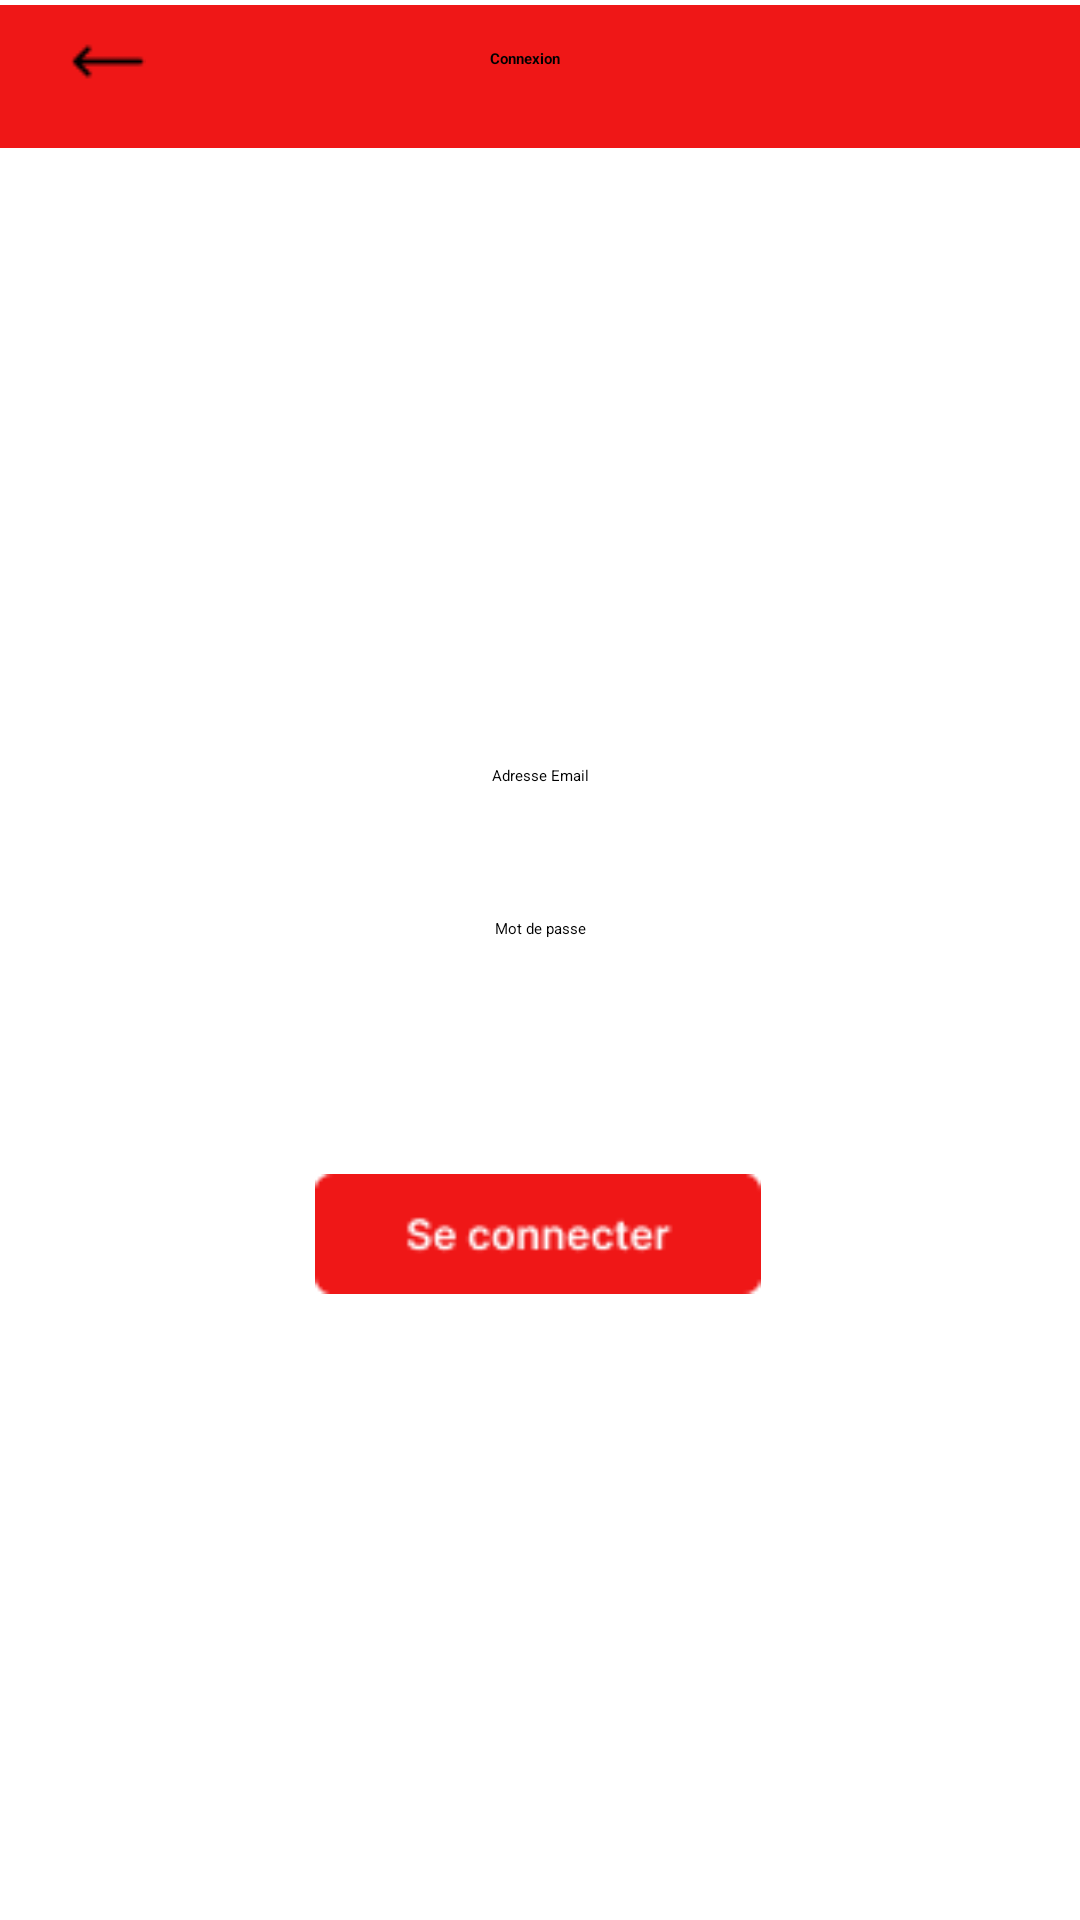

Screen size 1080px x 1920px. Icon name, then its center in pixels as point (x, y):
left: point (108, 61)
